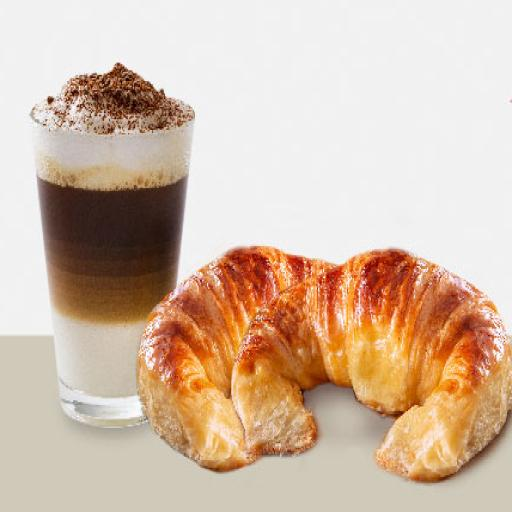bolleria: (233, 251, 511, 479), (137, 247, 333, 470)
